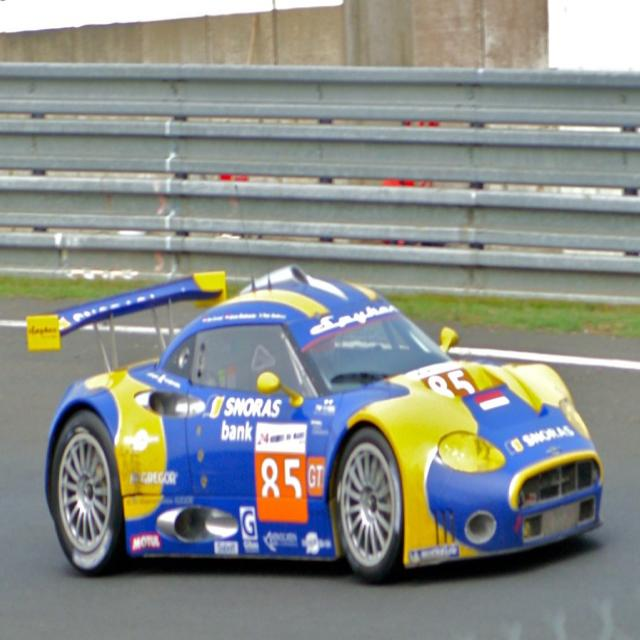car: (31, 273, 590, 584)
